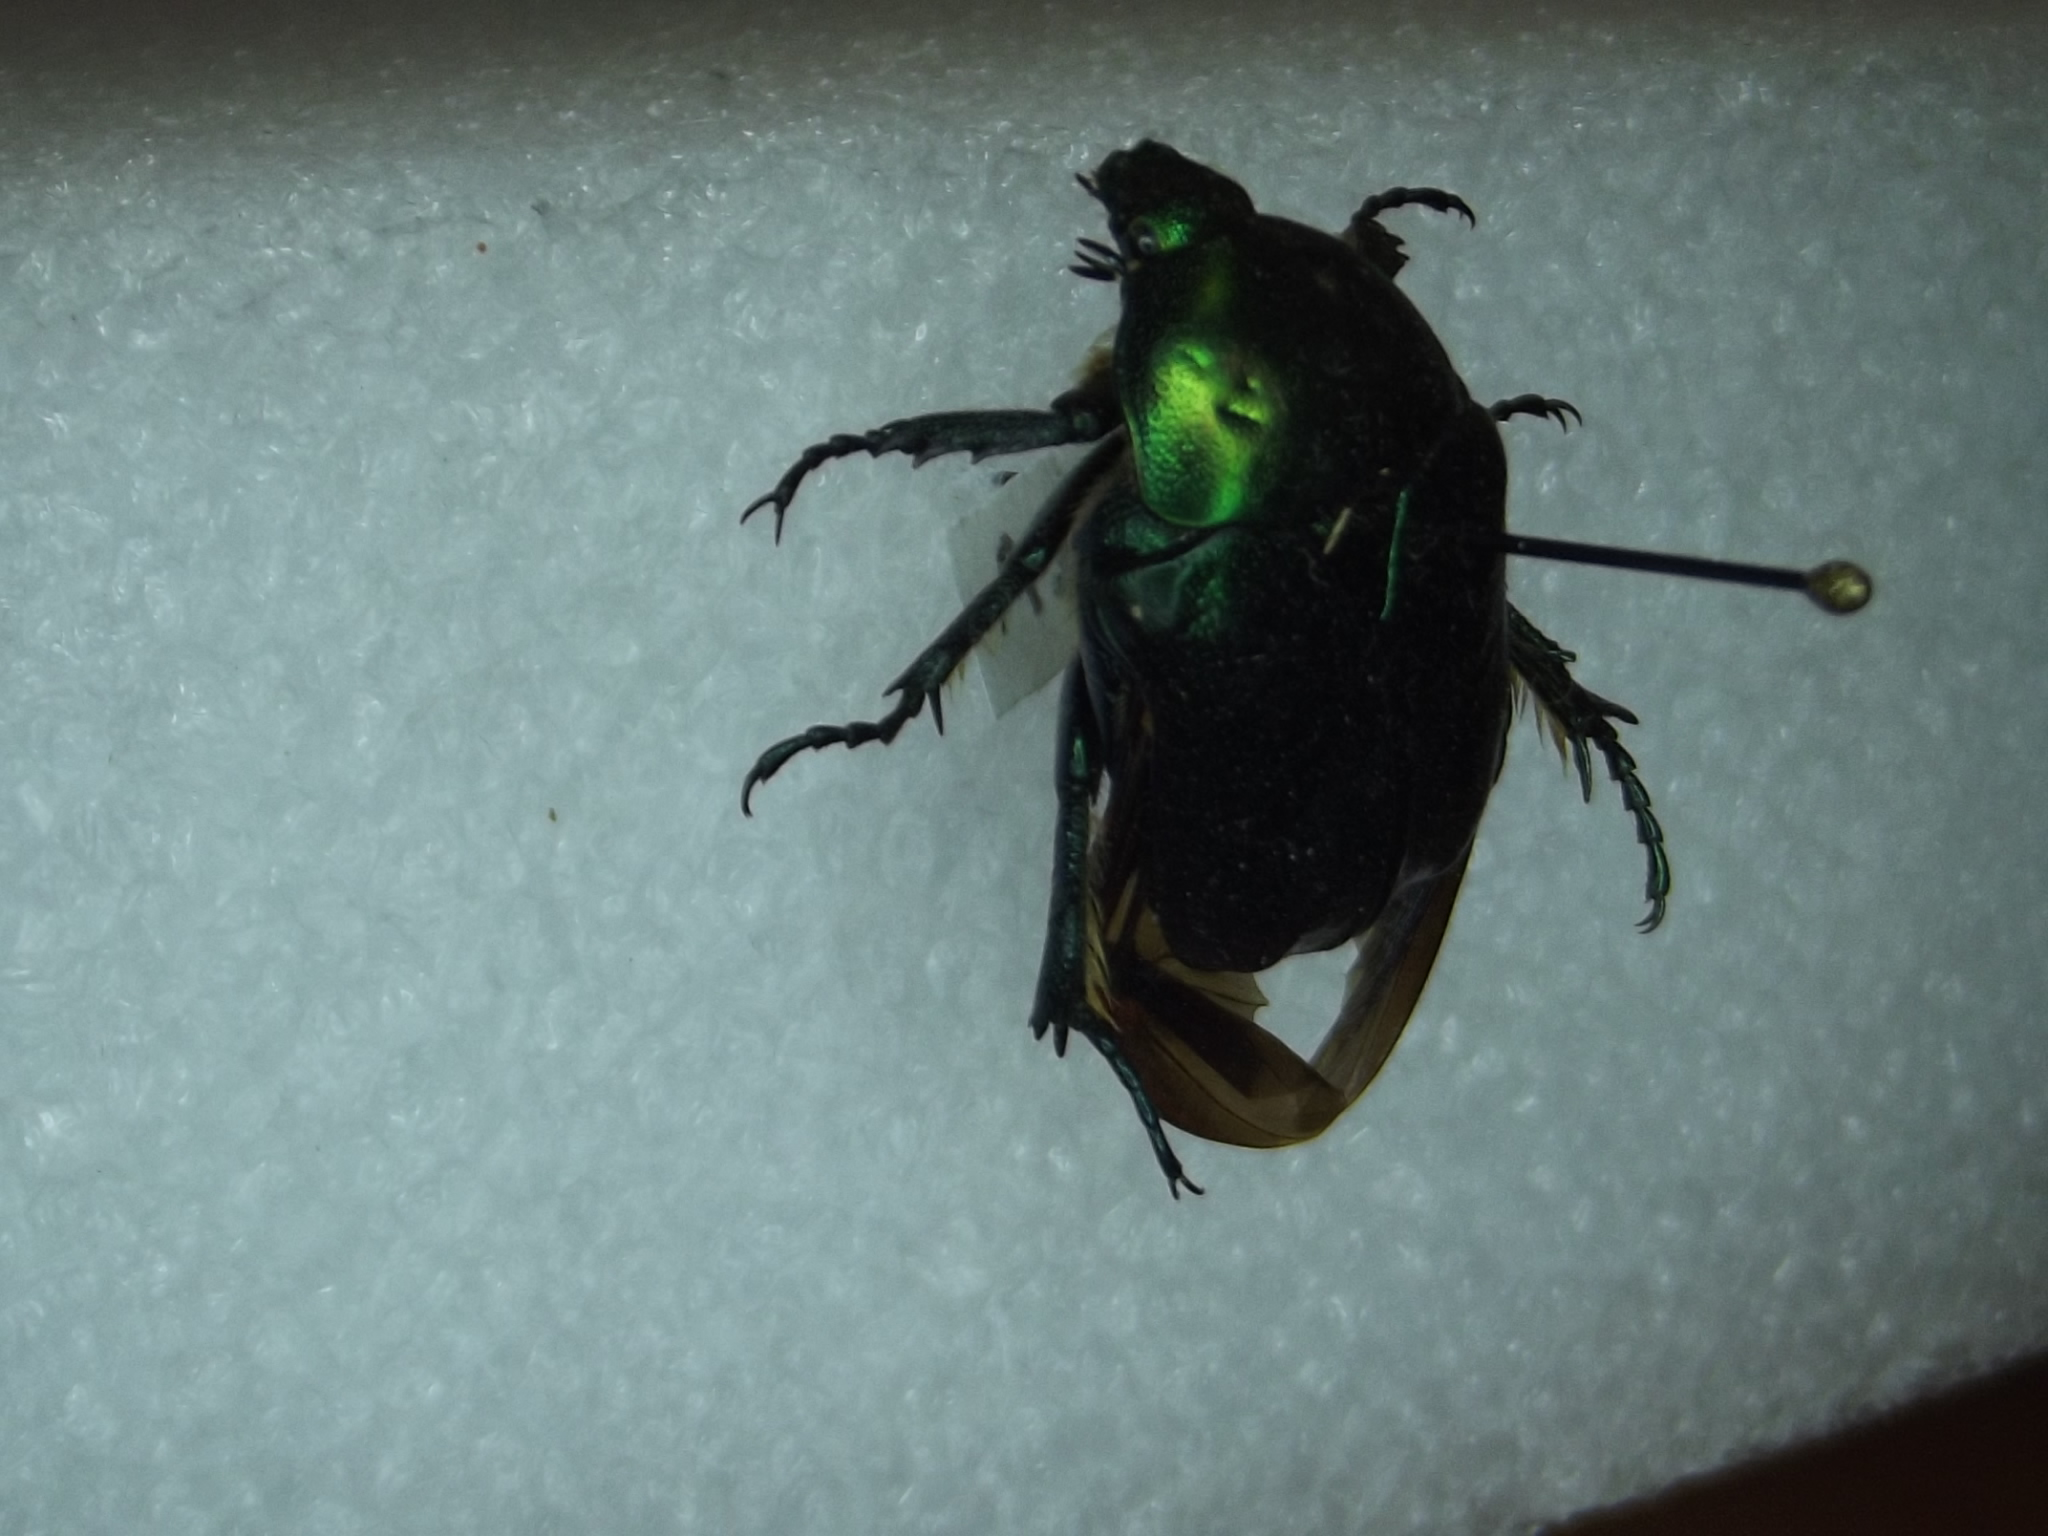Protaetia_angustata_angustata: (708, 118, 1672, 1225)
